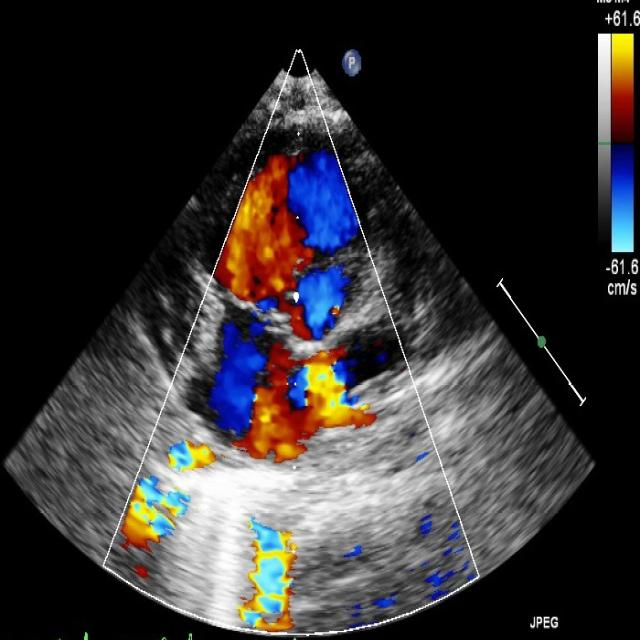VSDType2: (228, 153, 310, 462)
